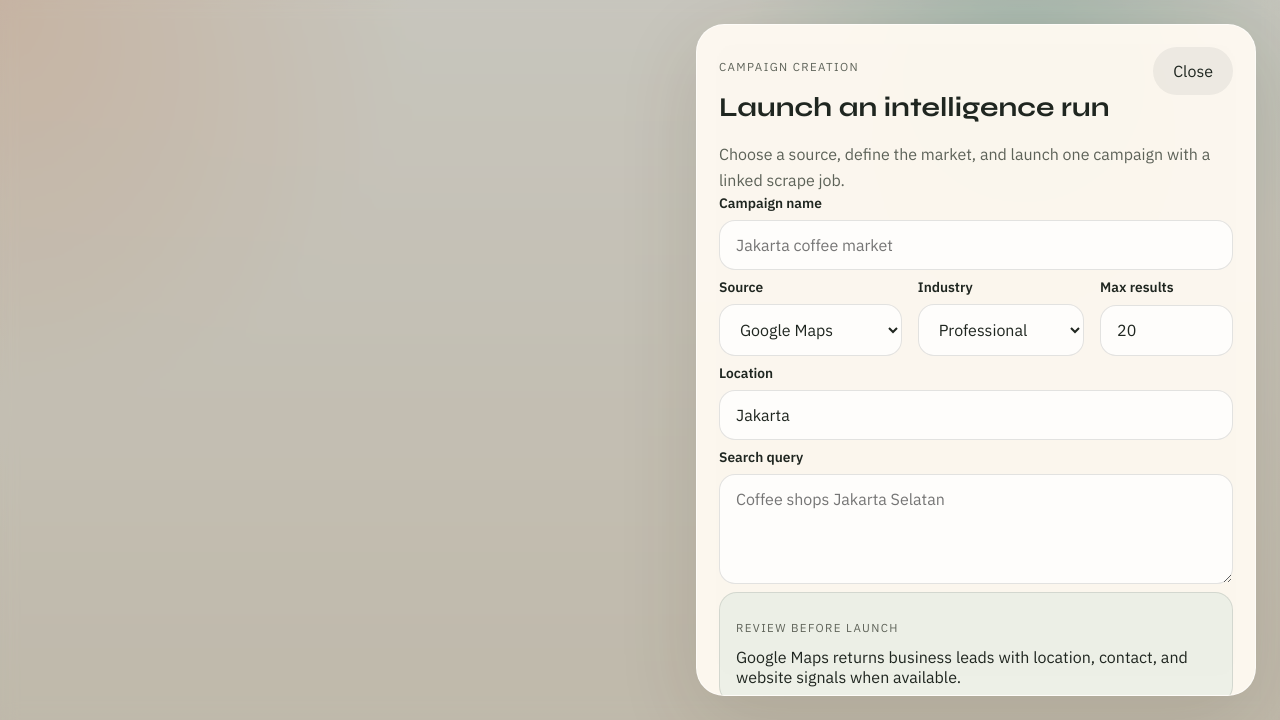
Test: CampaignCreationDrawer › keeps LinkedIn launch disabled until the shared session is connected
The width and height of the screenshot is (1280, 720).
In the field with placeholder "Jakarta coffee market": [976, 245] box [719,220,1233,270], type "Growth leads"
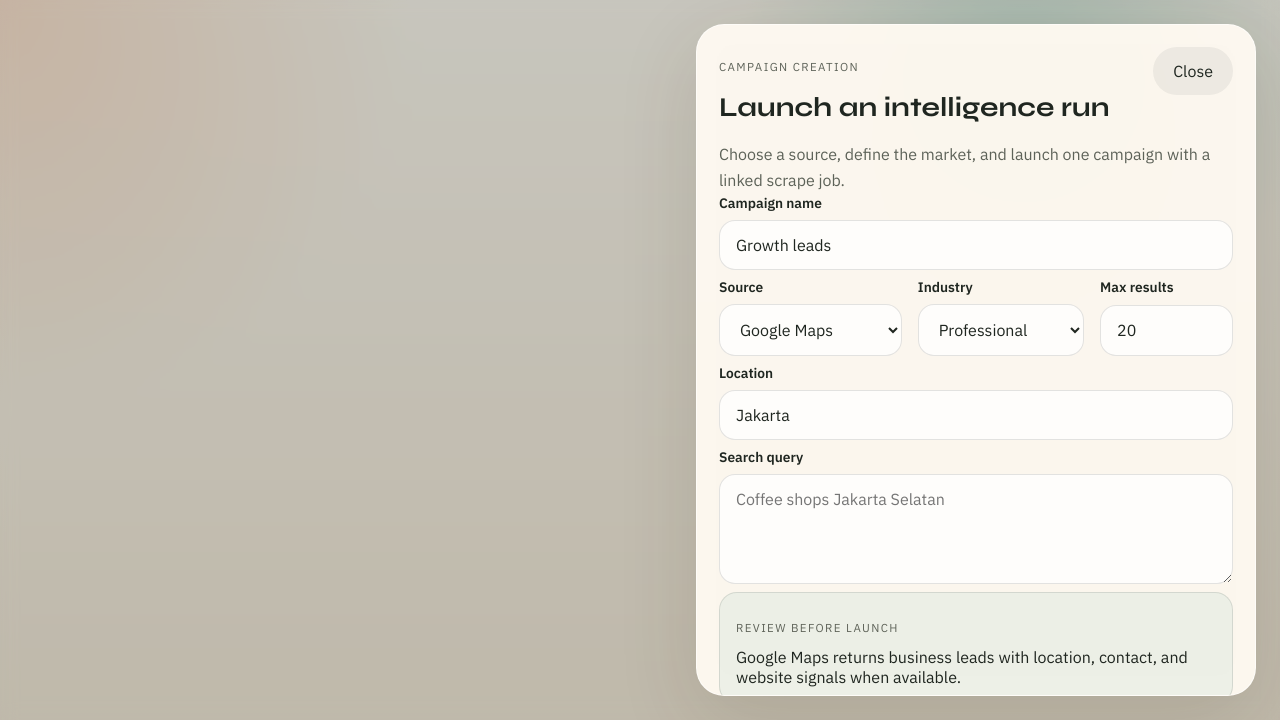
In the field with placeholder "Jakarta": [976, 415] box [719,390,1233,440], type "Singapore"
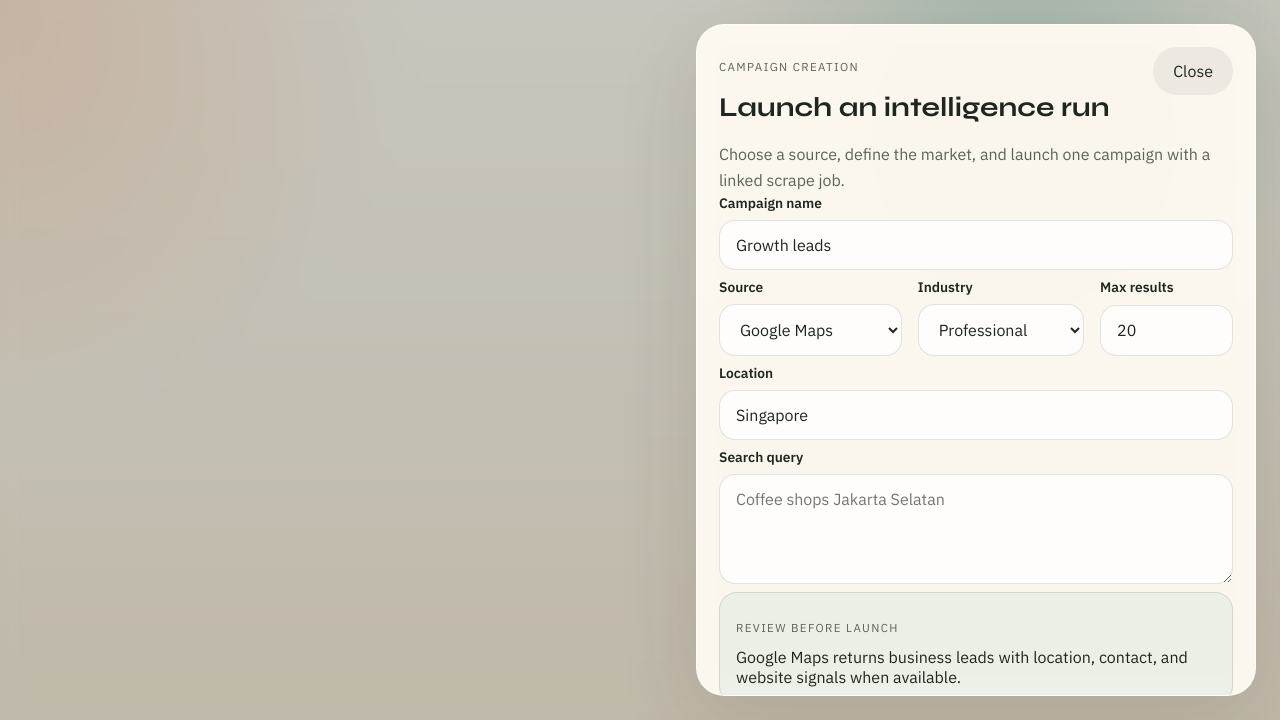
Select "LinkedIn" in the dropdown labelled "Source": [810, 330] box [719,304,902,356]
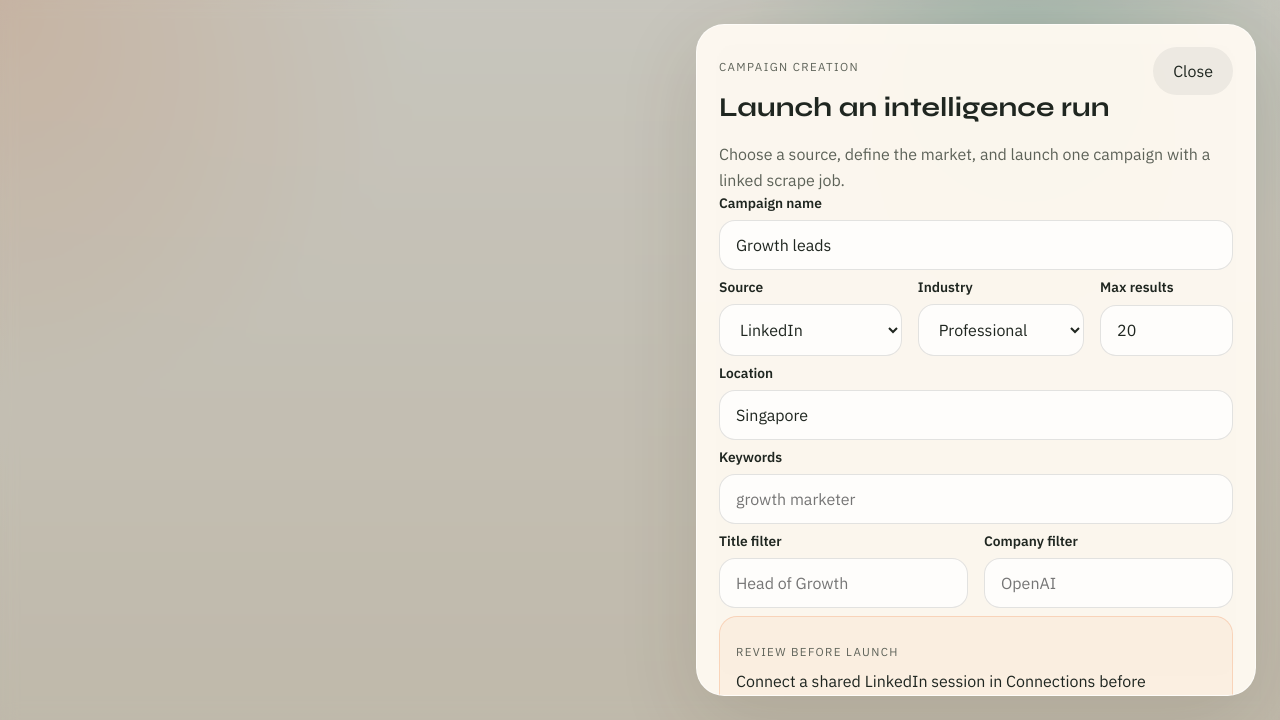
In the field with placeholder "growth marketer": [976, 499] box [719,474,1233,524], type "founder"
(page scrolled)
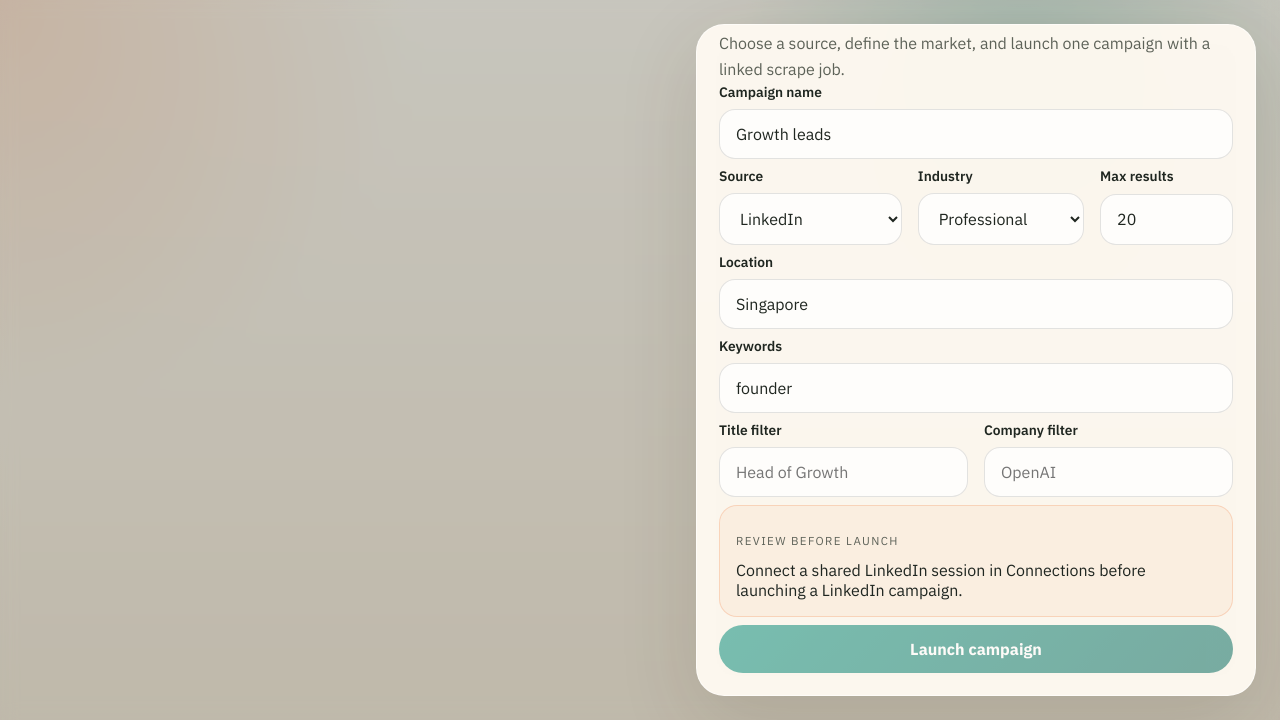
Expected: the submit button is disabled, [719,625,1233,673]
